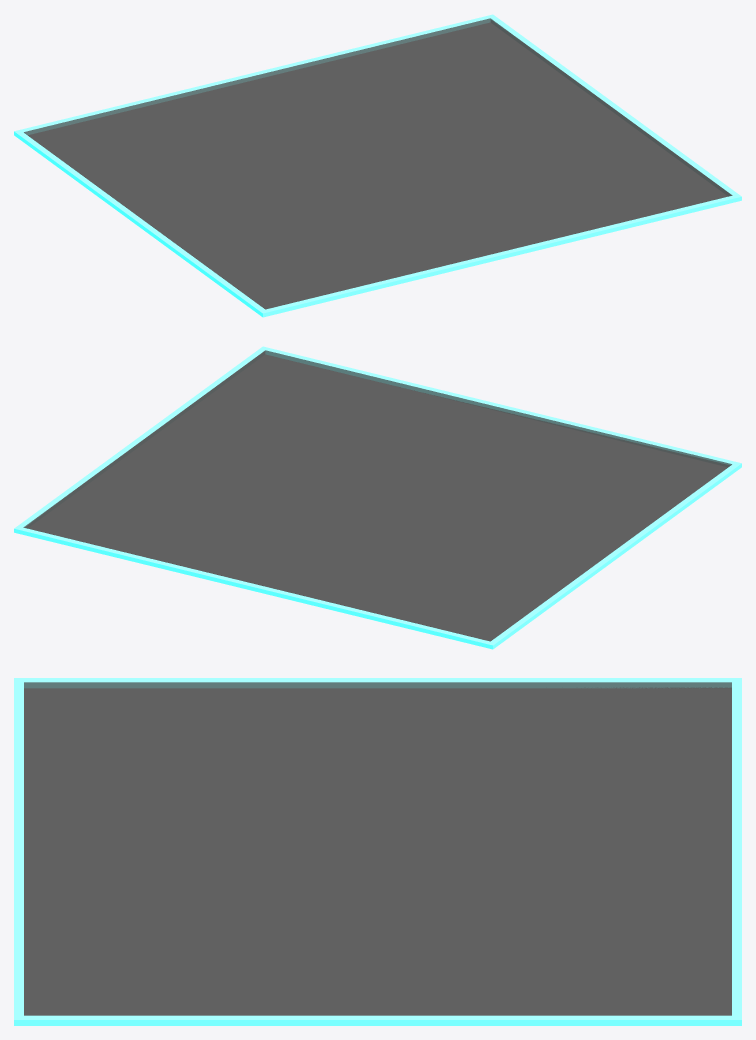
Rendered from oculus_home_floor_filler_future.glb.
3 renders of one model, top to bottom at view 1: azimuth 30°, elevation 25°; view 2: azimuth 150°, elevation 25°; view 3: azimuth 270°, elevation 25°, orthographic. The views are drawn at different scales.
Visible parts, largest first — view 1: Object_5, Object_3; view 2: Object_5, Object_3; view 3: Object_5, Object_3.
Part boxes in pixels (x1=…): Object_5: x1=24, y1=18, x2=732, y2=309; Object_3: x1=14, y1=14, x2=741, y2=317; Object_5: x1=23, y1=350, x2=731, y2=641; Object_3: x1=14, y1=346, x2=741, y2=649; Object_5: x1=24, y1=682, x2=731, y2=1015; Object_3: x1=14, y1=678, x2=741, y2=1025.
Bounding box in the file's own units: 2 × 0.017 × 1.8.
